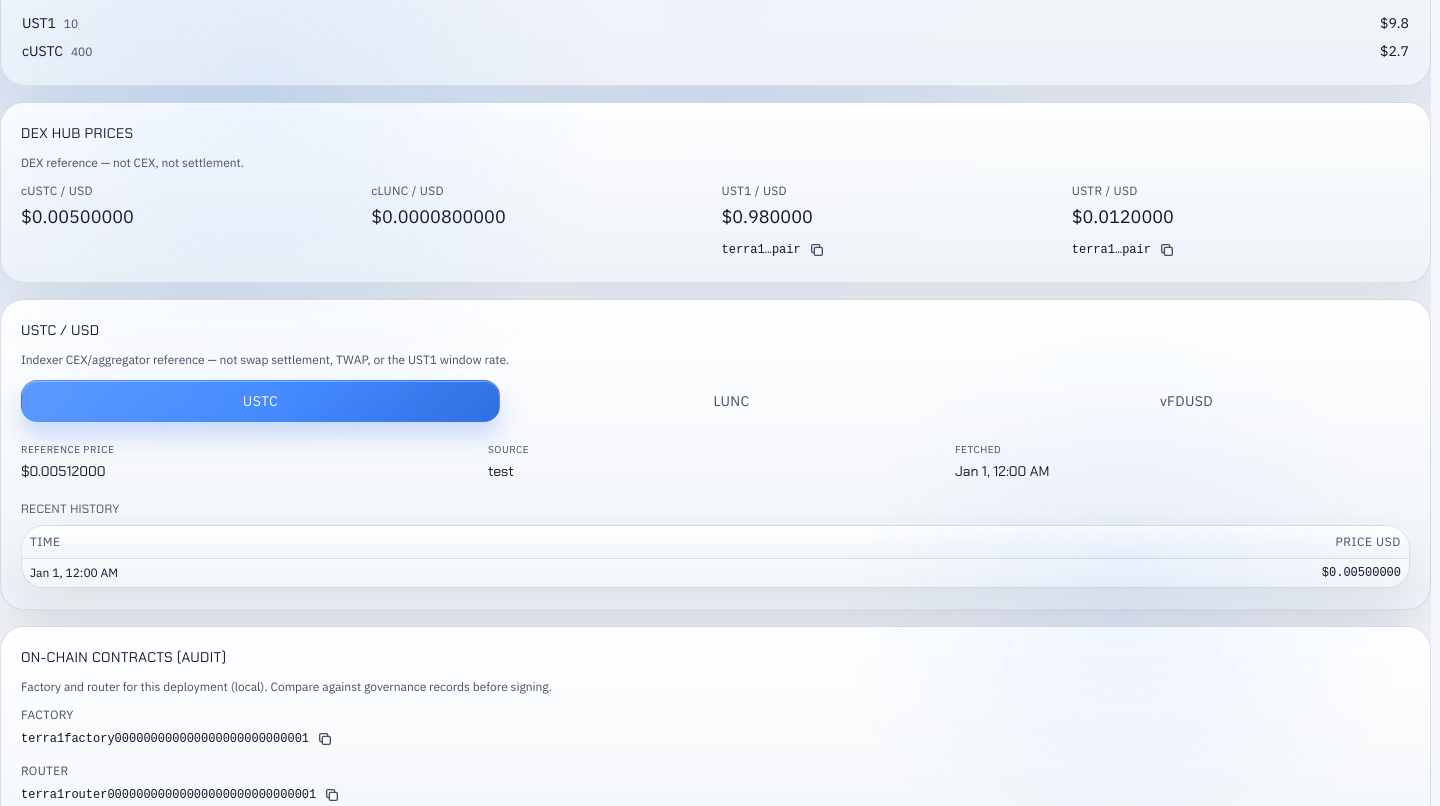
Test case: ProtocolPage (GitLab #550 / #378 / #569) › clicking LUNC refetches that ticker and updates the heading
(page scrolled)
Check: the heading "USTC / USD" is shown, box x1=21 y1=321 x2=99 y2=339
What coordinates should you click on to do the following:
click the tab with test id "protocol-oracle-tab-lunc"
I would click on:
 (732, 401)
Its box is x1=508 y1=380 x2=955 y2=422.
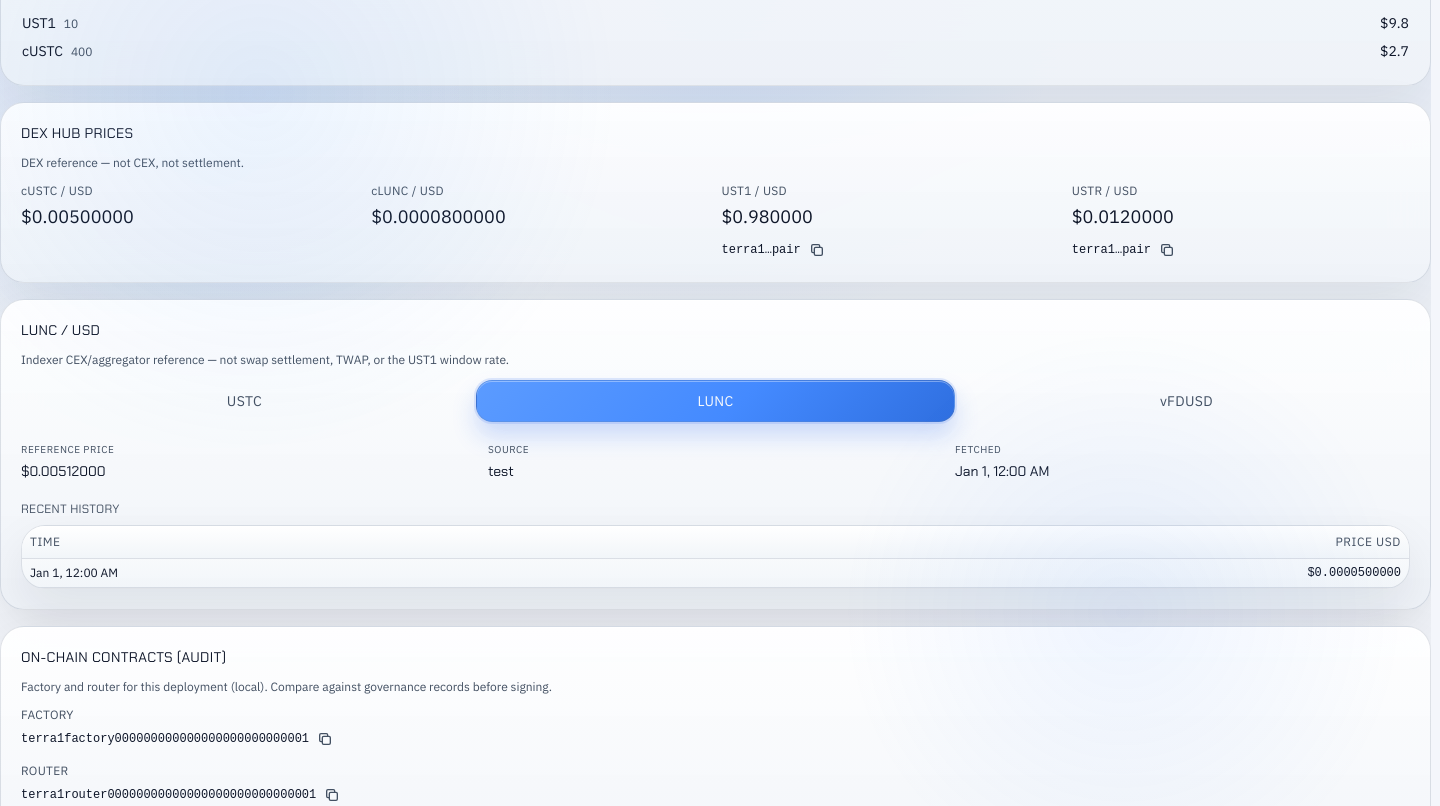
Check: the text "Reference price" is shown, box x1=21 y1=443 x2=114 y2=456
Check: the heading "LUNC / USD" is shown, box x1=21 y1=321 x2=100 y2=339
